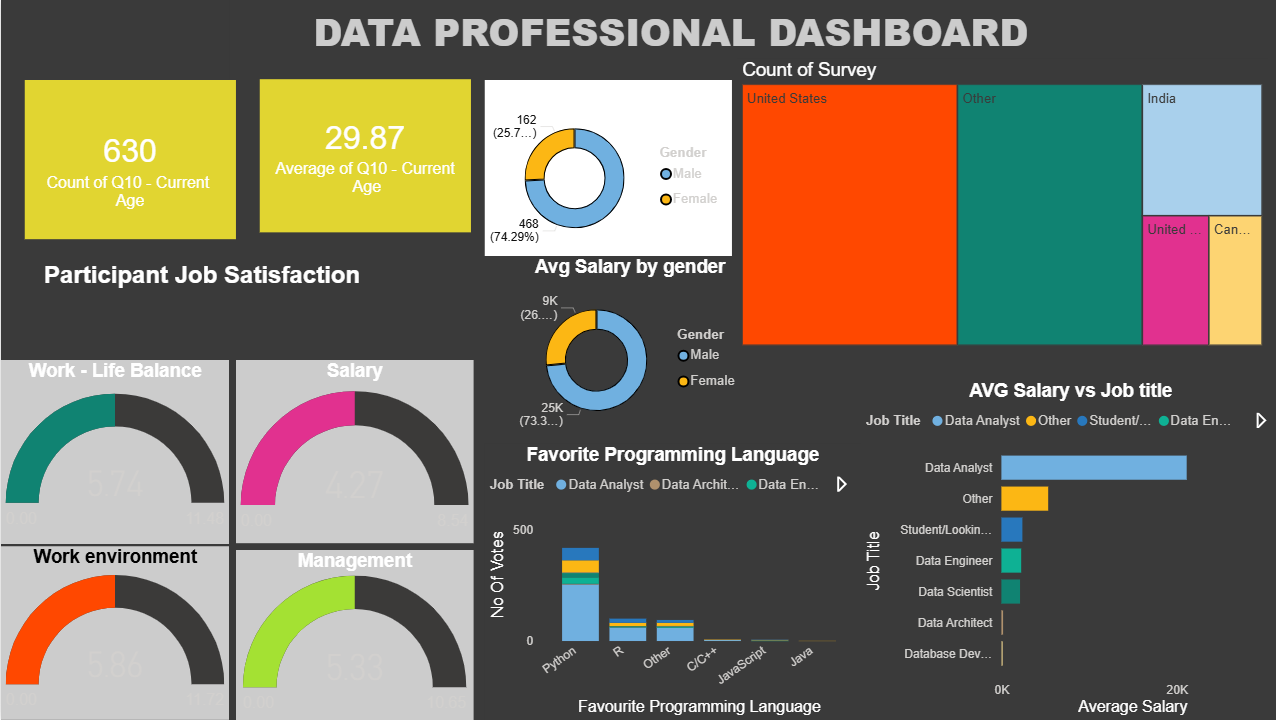

What the dashboard file says about the page in this screenshot:
{"tool":"powerbi","page":{"name":"Page 4","canvas":[1280,720],"ordinal":0},"visuals":[{"type":"gauge","title":"Work - Life Balance","fields":{"Y":["Avg(Data Professional Survey.Q6 - How Happy are you in your Current Position with the following? (Work/Life Balance))"]},"box":[0,360,228.4,183.7],"z":0},{"type":"gauge","title":"Salary","fields":{"Y":["Avg(Data Professional Survey.Q6 - How Happy are you in your Current Position with the following? (Salary))"]},"box":[245.8,368.7,238.3,166.3],"z":1000},{"type":"gauge","title":"Management","fields":{"Y":["Avg(Data Professional Survey.Q6 - How Happy are you in your Current Position with the following? (Management))"]},"box":[245.8,549.9,238.3,170.1],"z":2000},{"type":"gauge","title":"Work environment","fields":{"Y":["Avg(Data Professional Survey.Q6 - How Happy are you in your Current Position with the following? (Coworkers))"]},"box":[0,546.2,228.4,173.8],"z":3000},{"type":"card","fields":{"Values":["CountNonNull(Data Professional Survey.Q10 - Current Age)"]},"box":[23.6,79.4,211,158.9],"z":4000},{"type":"card","fields":{"Values":["Avg(Data Professional Survey.Q10 - Current Age)"]},"box":[258.2,58.3,211,173.8],"z":5000},{"type":"donutChart","title":"Participant''s gender","fields":{"Category":["Data Professional Survey.Q9 - Male/Female?"],"Y":["CountNonNull(Data Professional Survey.Q1 - Which Title Best Fits your Current Role?.1)"]},"box":[484.2,79.5,247,176.1],"z":6000},{"type":"donutChart","title":"Avg Salary by gender","fields":{"Category":["Data Professional Survey.Q9 - Male/Female?"],"Y":["Sum(Data Professional Survey.AVG Salary)"]},"box":[510.2,255.7,238.3,187.4],"z":7000},{"type":"columnChart","title":"Favorite Programming Language","fields":{"Series":["Data Professional Survey.Q1 - Which Title Best Fits your Current Role?.1"],"Y":["CountNonNull(Data Professional Survey.Q11 - Which Country do you live in?.1)"],"Category":["Data Professional Survey.Q5 - Favorite Programming Language.1"]},"box":[484.1,443.1,376.1,276.8],"z":8000},{"type":"barChart","title":"AVG Salary vs Job title","fields":{"Category":["Data Professional Survey.Q1 - Which Title Best Fits your Current Role?.1"],"Y":["Sum(Data Professional Survey.AVG Salary)"],"Series":["Data Professional Survey.Q1 - Which Title Best Fits your Current Role?.1"]},"box":[860.2,379.8,419.6,340.1],"z":9000},{"type":"textbox","box":[228.4,0,882.6,79.4],"z":10000},{"type":"textbox","box":[0,255.7,402.2,74.5],"z":11000},{"type":"treemap","title":"Count of Survey","fields":{"Values":["CountNonNull(Data Professional Survey.Q11 - Which Country do you live in?.1)"],"Details":["Data Professional Survey.Q11 - Which Country do you live in?.1"]},"box":[736.1,58.3,530,291.7],"z":12000}]}

Visuals, with their boxes in screenshot pixels (x1, y1, x2, y2), scaled from the page's 1280x720 canvas onto the 1276x720 screenshot:
"Work - Life Balance" gauge: 0, 360, 228, 544
"Salary" gauge: 245, 369, 483, 535
"Management" gauge: 245, 550, 483, 719
"Work environment" gauge: 0, 546, 228, 719
card - CountNonNull(Data Professional Survey.Q10 - Current Age): 24, 79, 234, 238
card - Avg(Data Professional Survey.Q10 - Current Age): 257, 58, 468, 232
"Participant''s gender" donutChart: 483, 80, 729, 256
"Avg Salary by gender" donutChart: 509, 256, 746, 443
"Favorite Programming Language" columnChart: 483, 443, 858, 719
"AVG Salary vs Job title" barChart: 858, 380, 1275, 719
textbox: 228, 0, 1108, 79
textbox: 0, 256, 401, 330
"Count of Survey" treemap: 734, 58, 1262, 350
